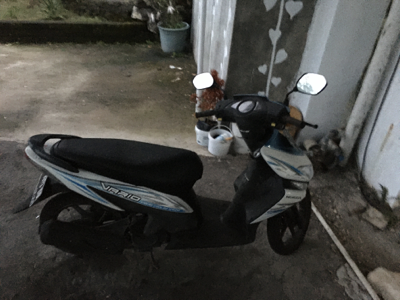moto: (29, 90, 319, 262)
